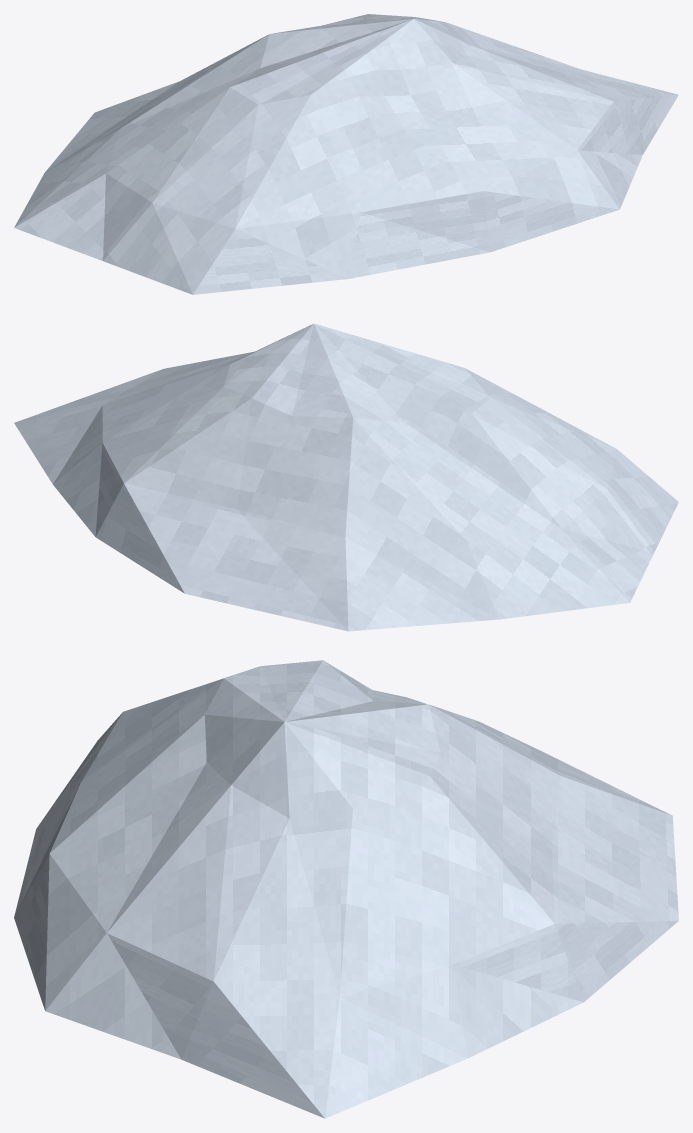
Rendered from drift_small.glb.
3 views of the same model, one above another, from view 1: azimuth 30°, elevation 25°; view 2: azimuth 150°, elevation 25°; view 3: azimuth 270°, elevation 25° (orthographic). The views are drawn at different scales.
Parts seen in each view (by area): view 1: drift_small; view 2: drift_small; view 3: drift_small.
Part boxes in pixels (x1,y1,x2,y2): drift_small: [14, 14, 678, 294]; drift_small: [14, 323, 678, 631]; drift_small: [14, 660, 678, 1118].
Bounding box in the file's own units: 1.2 × 0.28 × 0.8.
Materials: 1 (1 with a texture image).
